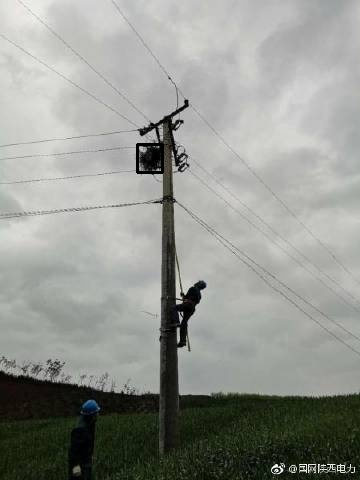bird-nest: (137, 144, 162, 172)
